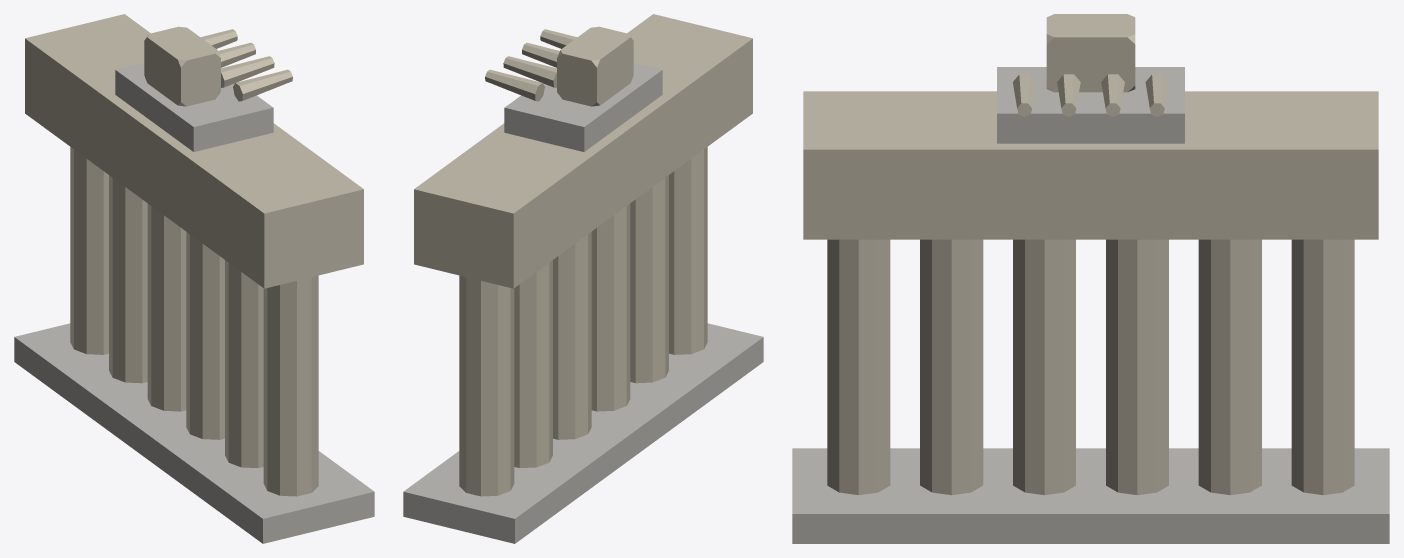
3 renders of one model, left to right at view 1: azimuth 30°, elevation 25°; view 2: azimuth 150°, elevation 25°; view 3: azimuth 270°, elevation 25°, orthographic. The views are drawn at different scales.
Visible parts, largest first — view 1: part1, part0, part7, part4, part5, part2, part3, part6, part8, part9, part13, part12 (+2 smaller); view 2: part1, part0, part2, part5, part4, part7, part6, part3, part8, part9, part10, part11 (+2 smaller); view 3: part1, part0, part2, part7, part3, part6, part4, part5, part8, part9, part11, part12 (+2 smaller).
Part boxes in pixels (<box>): part1: <box>25,14,363,288</box>; part0: <box>14,323,374,543</box>; part7: <box>263,275,318,496</box>; part4: <box>147,203,186,411</box>; part5: <box>186,232,224,439</box>; part2: <box>70,147,108,354</box>; part3: <box>109,175,147,383</box>; part6: <box>225,260,263,468</box>; part8: <box>115,63,273,151</box>; part9: <box>144,26,220,106</box>; part13: <box>233,69,292,101</box>; part12: <box>221,56,274,87</box>; part1: <box>414,14,752,288</box>; part0: <box>403,323,763,543</box>; part2: <box>459,275,514,496</box>; part5: <box>591,203,630,411</box>; part4: <box>553,232,591,439</box>; part7: <box>669,147,707,354</box>; part6: <box>630,175,668,383</box>; part3: <box>514,260,552,468</box>; part8: <box>504,63,662,151</box>; part9: <box>557,26,633,106</box>; part10: <box>485,69,544,101</box>; part11: <box>503,56,556,87</box>; part1: <box>803,91,1378,239</box>; part0: <box>792,448,1389,543</box>; part2: <box>1291,239,1354,495</box>; part7: <box>827,239,890,495</box>; part3: <box>1198,239,1261,495</box>; part6: <box>920,239,983,495</box>; part4: <box>1106,239,1168,495</box>; part5: <box>1013,239,1075,495</box>; part8: <box>997,67,1184,143</box>; part9: <box>1046,14,1135,92</box>; part11: <box>1101,74,1124,116</box>; part12: <box>1057,74,1080,116</box>.
Bounding box in the file's own units: 1.56 × 4.78 × 5.4.
